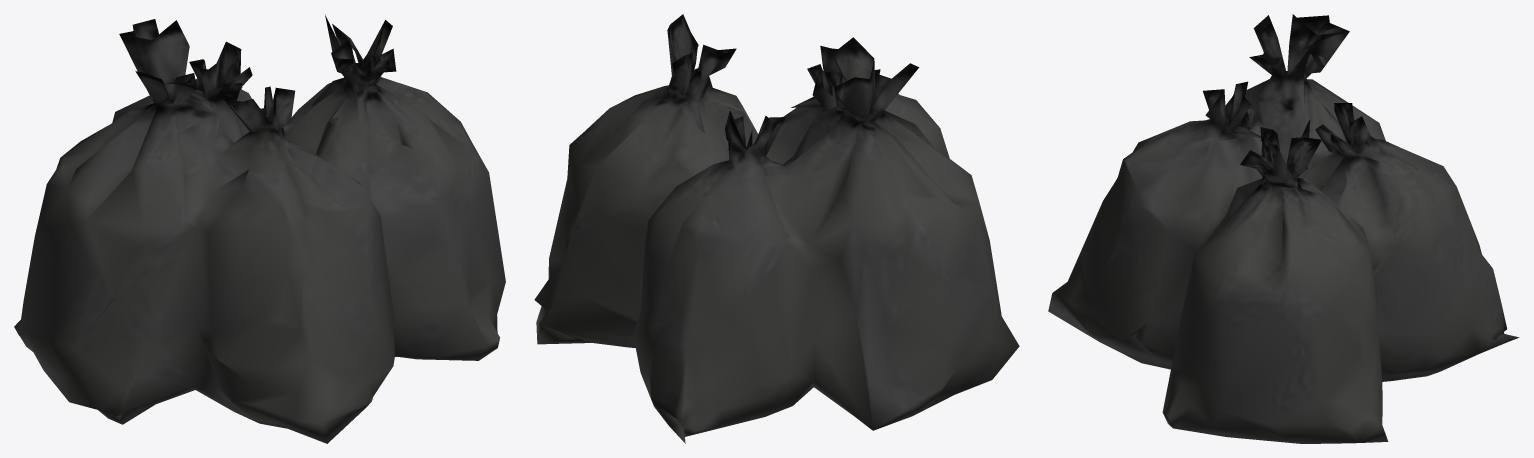
File: bags.glb
3 views of the same model, side by side, from view 1: azimuth 30°, elevation 25°; view 2: azimuth 150°, elevation 25°; view 3: azimuth 270°, elevation 25° (orthographic). The views are drawn at different scales.
Visible parts, largest first — view 1: tripo_node_8026af6b-42f7-4849-86ed-5c3f356d1f35; view 2: tripo_node_8026af6b-42f7-4849-86ed-5c3f356d1f35; view 3: tripo_node_8026af6b-42f7-4849-86ed-5c3f356d1f35.
Boxes of the visible parts, left/top/right/bottom form: tripo_node_8026af6b-42f7-4849-86ed-5c3f356d1f35: left=14, top=14, right=505, bottom=443; tripo_node_8026af6b-42f7-4849-86ed-5c3f356d1f35: left=534, top=14, right=1019, bottom=443; tripo_node_8026af6b-42f7-4849-86ed-5c3f356d1f35: left=1048, top=14, right=1519, bottom=443.
Size of the model in its own units: 0.9441 by 0.7381 by 1.
Materials: 1 (1 with a texture image).
